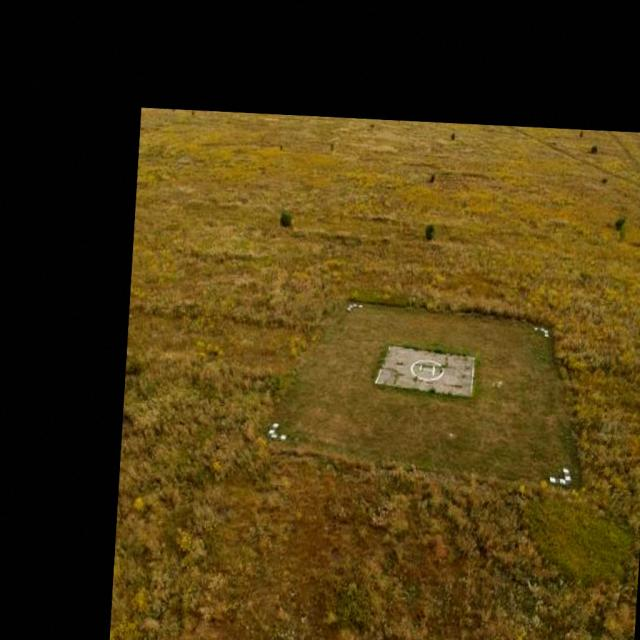helipad: (409, 358, 444, 380)
